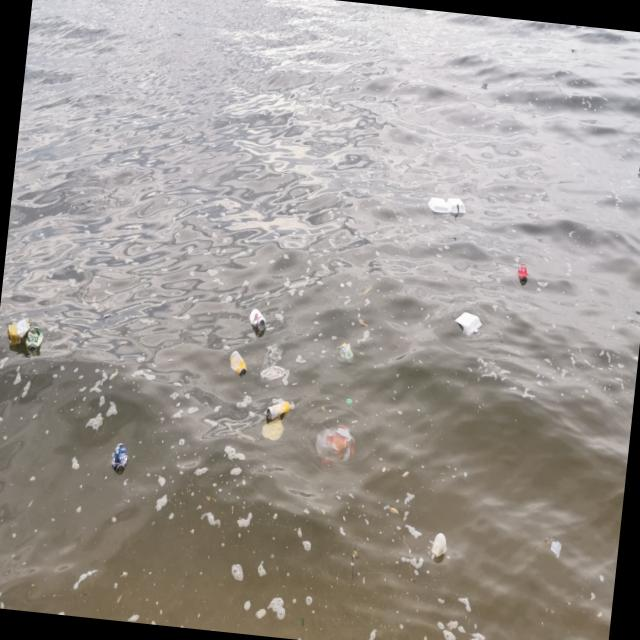can: (229, 349, 250, 377), (267, 399, 292, 422), (112, 443, 130, 474), (26, 326, 46, 353), (249, 308, 269, 331), (516, 263, 530, 286), (638, 165, 640, 178), (576, 26, 582, 30)
foam: (428, 196, 468, 215), (453, 312, 483, 337)
